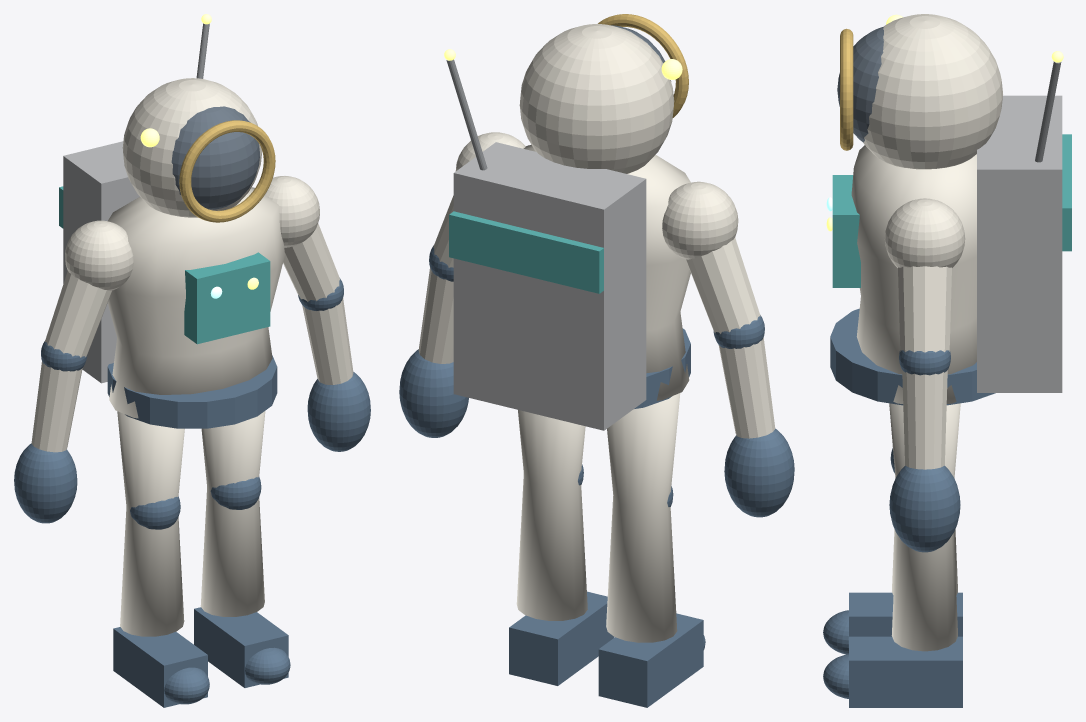
The model's file is spacesuit-display.glb.
3 views of the same model, side by side, from view 1: azimuth 30°, elevation 25°; view 2: azimuth 150°, elevation 25°; view 3: azimuth 270°, elevation 25° (orthographic). The views are drawn at different scales.
Visible parts, largest first — view 1: Torso, LegL, LegR, Helmet, Backpack, ChestPack, Visor, Belt, BootL, BootR, GloveL, GloveR (+13 smaller); view 2: Backpack, Helmet, LegL, LegR, Torso, BackpackStripe, BootL, BootR, GloveL, ShoulderL, ArmLUpper, GloveR (+8 smaller); view 3: Backpack, Helmet, Torso, LegR, BootR, GloveR, ShoulderR, Belt, ArmRUpper, ArmRFore, ChestPack, Visor (+7 smaller).
Boxes of the visible parts, x1,y1,x2,y2 form: Torso: (107,187,284,418); LegL: (117,411,184,636); LegR: (200,411,265,616); Helmet: (122,78,262,217); Backpack: (63,141,139,383); ChestPack: (184,252,270,344); Visor: (171,106,259,209); Belt: (107,355,277,428); BootL: (113,627,207,707); BootR: (194,607,288,687); GloveL: (14,443,77,523); GloveR: (307,372,370,451); Backpack: (453,142,646,430); Helmet: (519,24,674,173); LegL: (606,393,680,642); LegR: (516,410,587,620); Torso: (523,145,690,400); BackpackStripe: (449,211,603,293); BootL: (598,613,703,707); BootR: (509,591,614,685); GloveL: (724,428,794,517); ShoulderL: (662,181,738,259); ArmLUpper: (686,237,760,333); GloveR: (399,349,468,437); Backpack: (977,95,1062,392); Helmet: (863,14,1002,169); Torso: (851,145,976,403); LegR: (889,403,960,651); BootR: (849,636,962,707); GloveR: (889,465,960,552); ShoulderR: (884,198,965,267); Belt: (830,308,995,405); ArmRUpper: (898,266,951,352); ArmRFore: (902,370,947,469); ChestPack: (832,175,860,287); Visor: (837,27,883,142).
Size of the model in its own units: 0.95 by 1.54 by 0.525.
